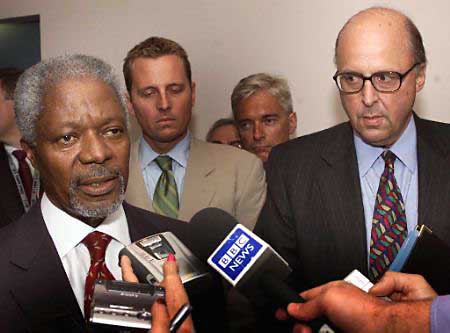Face: (41, 101, 133, 219), (329, 45, 418, 147), (129, 62, 193, 138), (231, 99, 289, 159)
